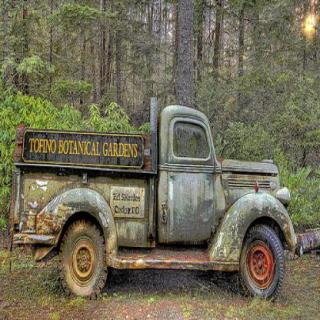Normal_vehicle: (8, 74, 300, 312)
